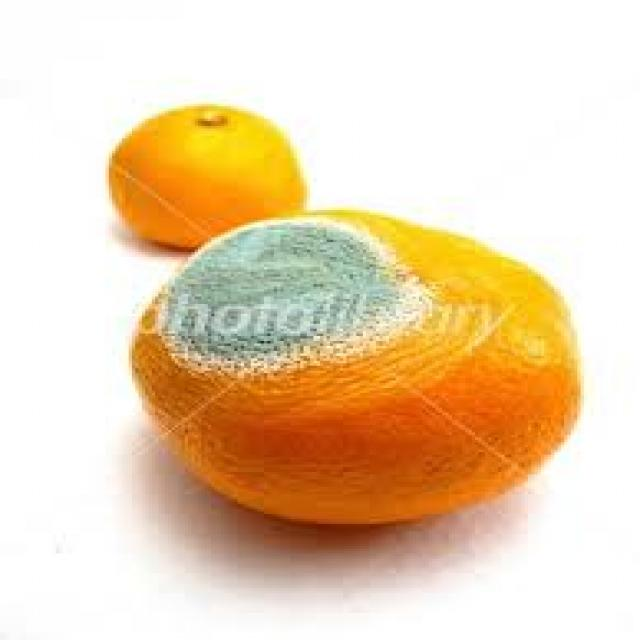organic waste: (128, 205, 580, 524), (106, 101, 306, 252)
